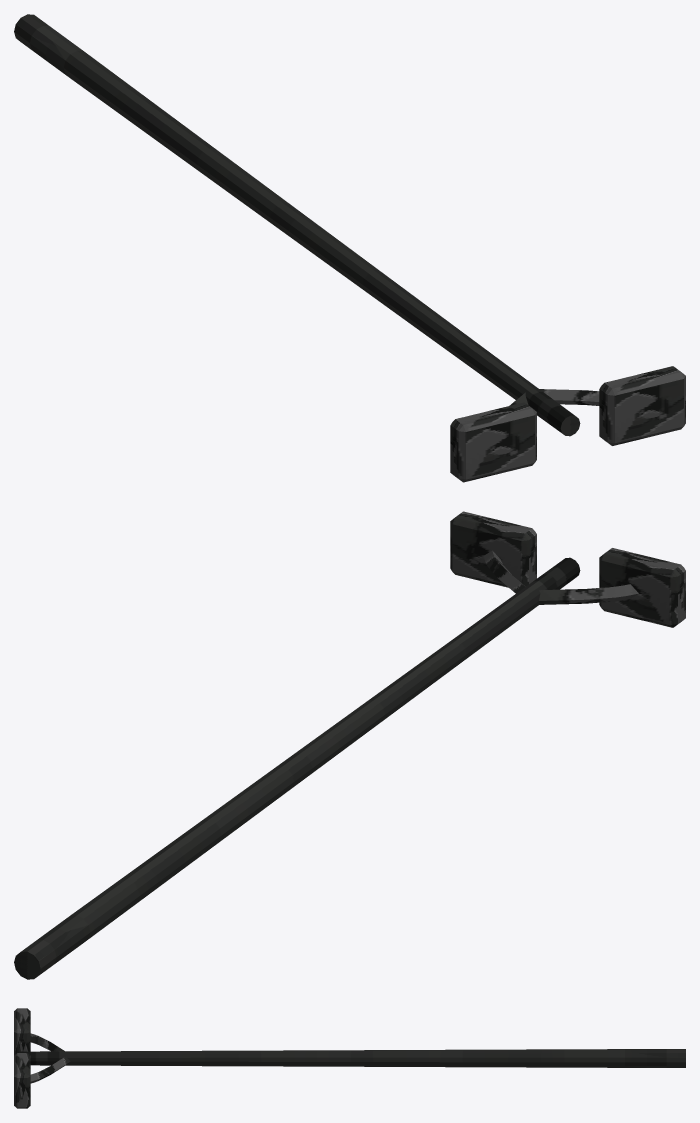
File: pz_street_pole_18.obj
3 views of the same model, one above another, from view 1: azimuth 30°, elevation 25°; view 2: azimuth 150°, elevation 25°; view 3: azimuth 270°, elevation 25° (orthographic). The views are drawn at different scales.
Parts seen in each view (by area): view 1: pz_street_pole_18_|_tapered_native_street_pole, pz_street_pole_18_|_parking_flood_head.001, pz_street_pole_18_|_parking_flood_head, pz_street_pole_18_|_EDITABLE_branched_parking_lamp_arm.001; view 2: pz_street_pole_18_|_tapered_native_street_pole, pz_street_pole_18_|_parking_flood_head, pz_street_pole_18_|_parking_flood_head.001, pz_street_pole_18_|_EDITABLE_branched_parking_lamp_arm; view 3: pz_street_pole_18_|_tapered_native_street_pole, pz_street_pole_18_|_parking_flood_head.001, pz_street_pole_18_|_parking_flood_head, pz_street_pole_18_|_EDITABLE_branched_parking_lamp_arm.001, pz_street_pole_18_|_EDITABLE_branched_parking_lamp_arm.
Part boxes in pixels (left/top/right/bottom): pz_street_pole_18_|_tapered_native_street_pole: left=14, top=14, right=580, bottom=436; pz_street_pole_18_|_parking_flood_head.001: left=599, top=366, right=685, bottom=445; pz_street_pole_18_|_parking_flood_head: left=450, top=402, right=536, bottom=482; pz_street_pole_18_|_EDITABLE_branched_parking_lamp_arm.001: left=539, top=389, right=599, bottom=405; pz_street_pole_18_|_tapered_native_street_pole: left=14, top=557, right=580, bottom=979; pz_street_pole_18_|_parking_flood_head: left=599, top=548, right=685, bottom=627; pz_street_pole_18_|_parking_flood_head.001: left=450, top=511, right=536, bottom=587; pz_street_pole_18_|_EDITABLE_branched_parking_lamp_arm: left=539, top=584, right=638, bottom=604; pz_street_pole_18_|_tapered_native_street_pole: left=19, top=1049, right=685, bottom=1067; pz_street_pole_18_|_parking_flood_head.001: left=14, top=1053, right=30, bottom=1108; pz_street_pole_18_|_parking_flood_head: left=14, top=1008, right=30, bottom=1055; pz_street_pole_18_|_EDITABLE_branched_parking_lamp_arm.001: left=30, top=1056, right=70, bottom=1083; pz_street_pole_18_|_EDITABLE_branched_parking_lamp_arm: left=30, top=1033, right=64, bottom=1051.
Size of the model in its own units: 0.58 by 0.14 by 2.42.
Materials: 1 (1 with a texture image).
